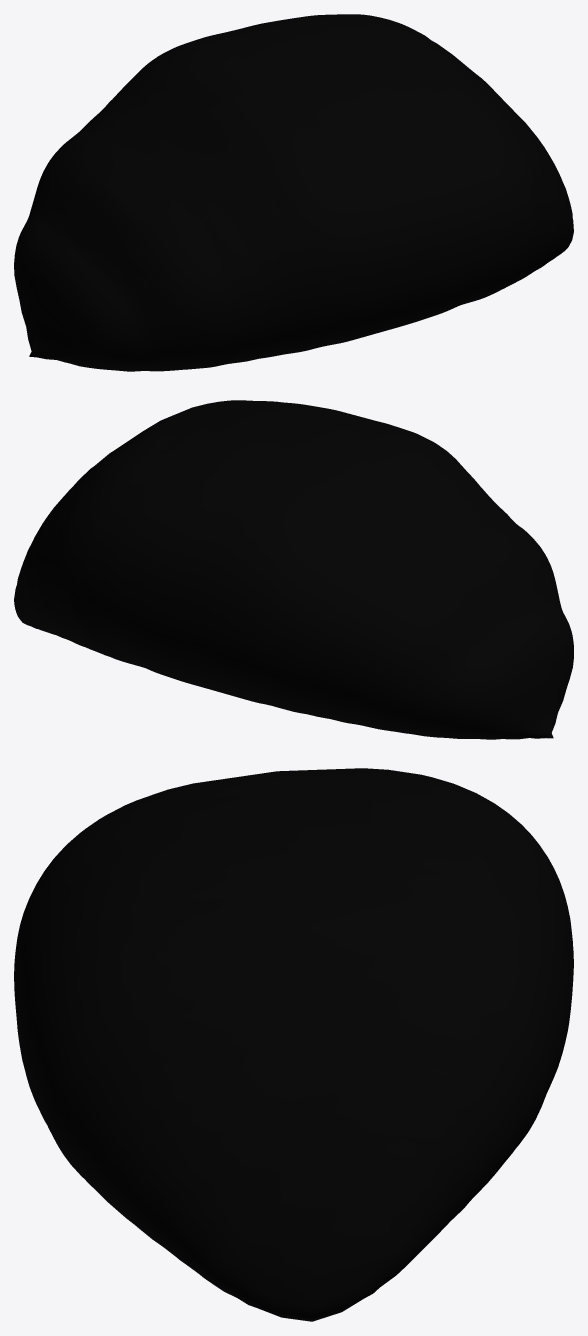
The model's file is gold.fbx.
The picture shows the model from 3 angles, top to bottom: view 1: azimuth 30°, elevation 25°; view 2: azimuth 150°, elevation 25°; view 3: azimuth 270°, elevation 25°; orthographic projection. The views are drawn at different scales.
Visible parts, largest first — view 1: root; view 2: root; view 3: root.
Part boxes in pixels (box(x1,y1,x2,y2)): root: box(14, 14, 573, 371); root: box(14, 400, 573, 739); root: box(14, 768, 573, 1321).
Size of the model in its own units: 0.5148 by 0.2304 by 0.3398.
1 material, 1 textured.
